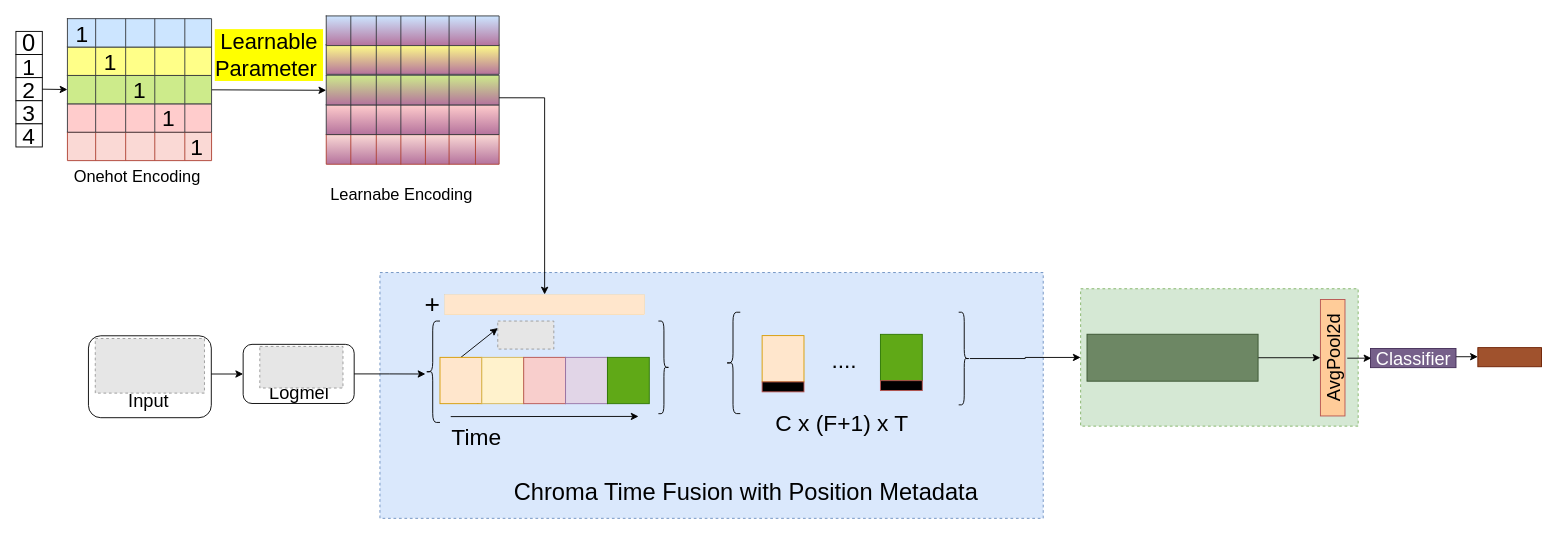
This 1558x535 diagram has some shape labels left out. Grey dashed boxes stand in for pictures. The centre of each missing label's shape, as x and y in pixels:
CNN with Residual block: point 1172,357
Output: point 1509,357
position metadata: point 544,304
